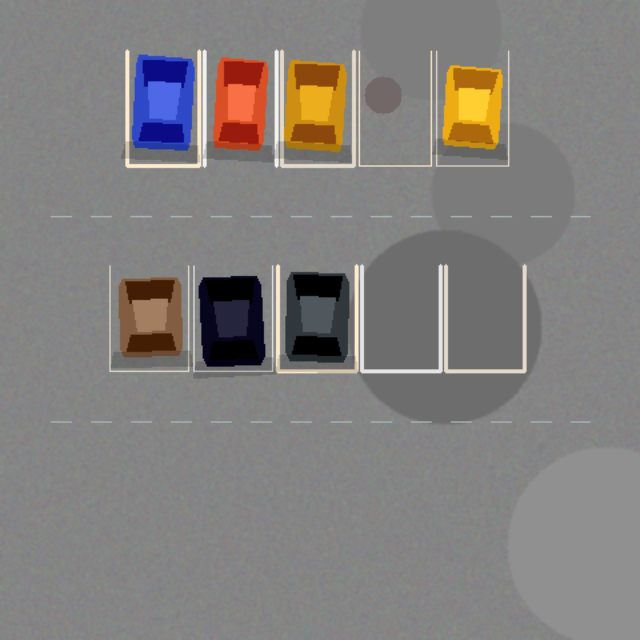space-empty: (361, 265, 440, 371), (445, 265, 524, 371), (359, 51, 431, 165)
space-occupied: (109, 265, 188, 371), (193, 265, 272, 371), (277, 265, 356, 371), (127, 51, 199, 165), (204, 51, 276, 165), (281, 51, 353, 165), (436, 51, 508, 165)
